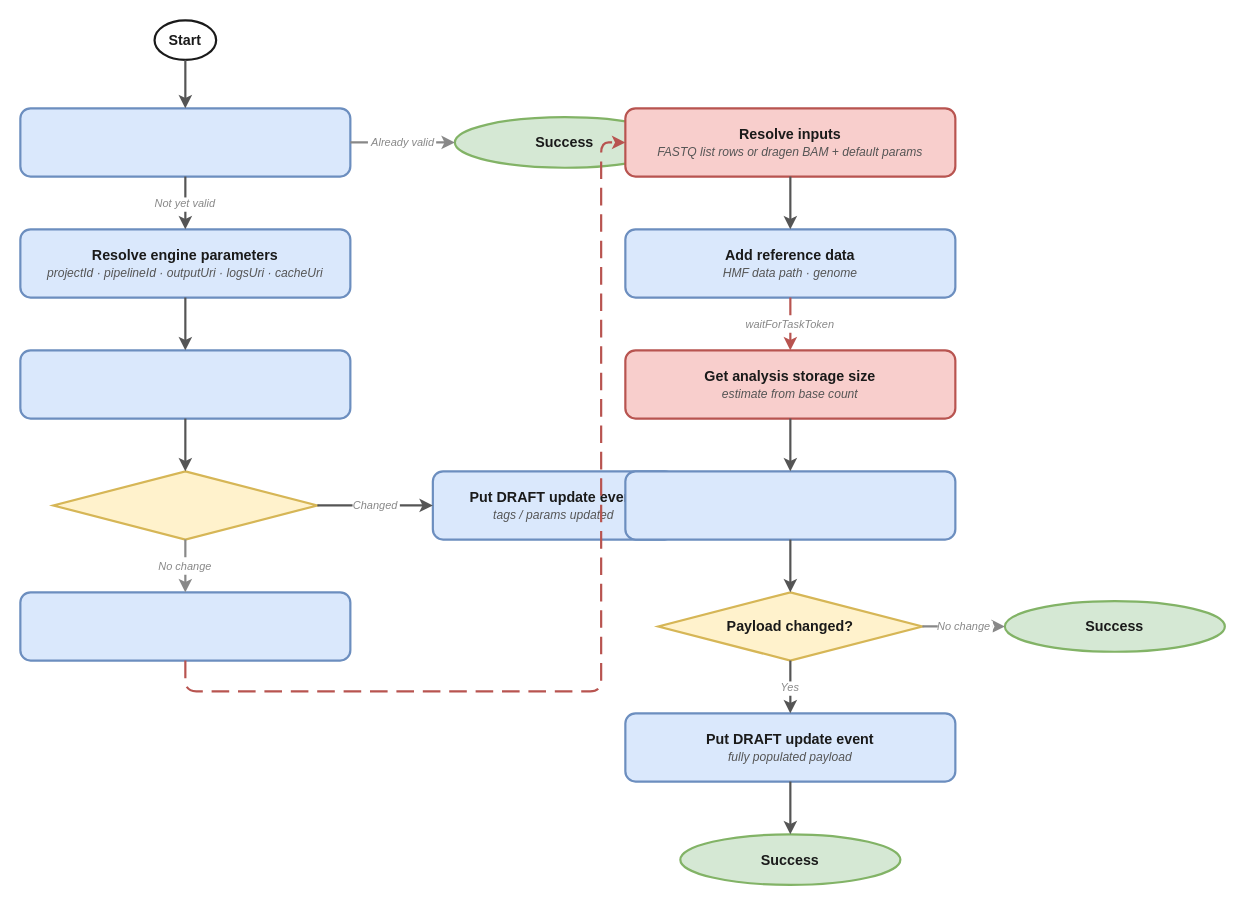
The diagram is 1244 pixels wide and 904 high, and some of its shapes have lost their labels. The shapes that lost their labels are listed below. From the top down, each one's centre as x and y in pixels, then its label:
At (185,142): "Validate draft data".
At (185,384): "Resolve library tags fastqRgidList · tumorFastqRgidList · subject · individual".
At (185,505): "Tags or engine params changed?".
At (790,505): "Compare payload generate WRU object + diff old vs new".
At (185,626): "Resolve readsets normal + tumor library readsets".
